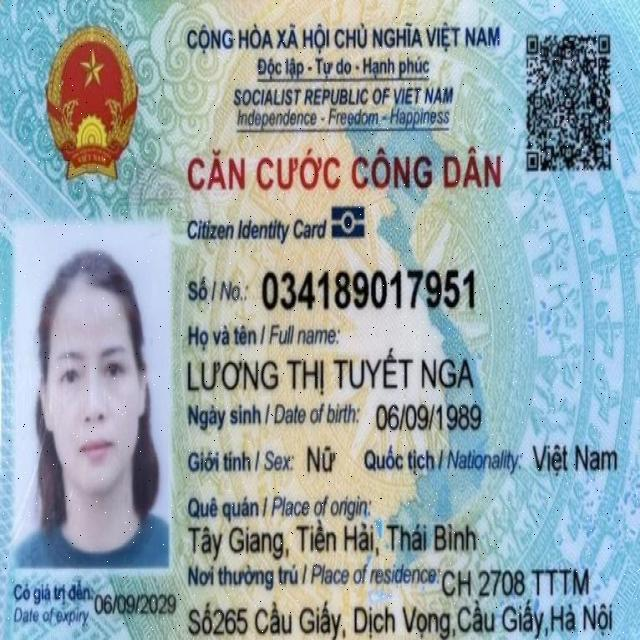current_place: (188, 597, 614, 640), (442, 565, 591, 601)
dob: (374, 401, 482, 431)
expire_date: (94, 593, 177, 616)
gender: (306, 442, 336, 474)
id: (262, 269, 477, 311)
name: (185, 346, 478, 396)
nationality: (533, 439, 618, 475)
origin_place: (188, 520, 478, 561)
